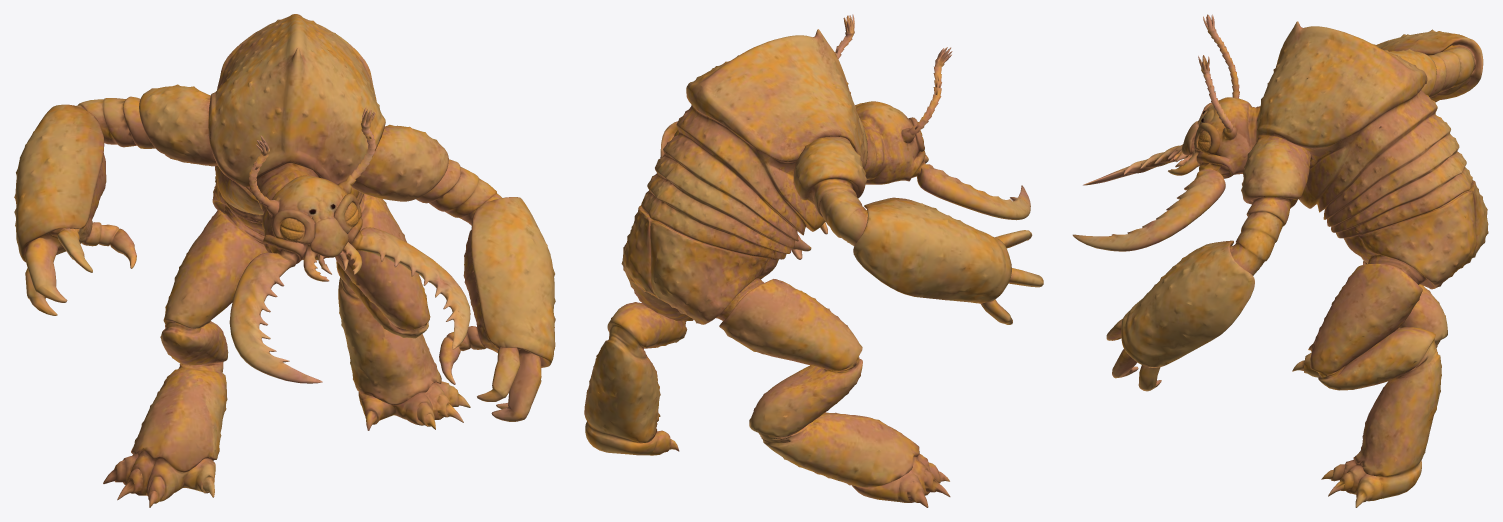
Rendered from MZ4250 - Umber Hulk.glb.
The picture shows the model from 3 angles, left to right: view 1: azimuth 30°, elevation 25°; view 2: azimuth 150°, elevation 25°; view 3: azimuth 270°, elevation 25°; orthographic projection. The views are drawn at different scales.
Visible parts, largest first — view 1: default; view 2: default; view 3: default.
Part boxes in pixels (x1=…): default: x1=14, y1=14, x2=555, y2=507; default: x1=584, y1=14, x2=1043, y2=507; default: x1=1072, y1=14, x2=1488, y2=507.
Size of the model in its own units: 1.16 by 1.07 by 1.01.
1 material, 1 textured.
